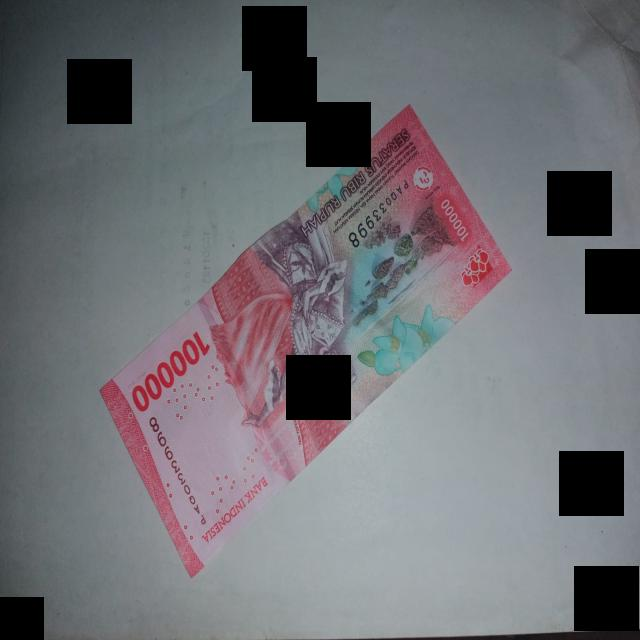seratusribu rupiah: (101, 107, 510, 577)
